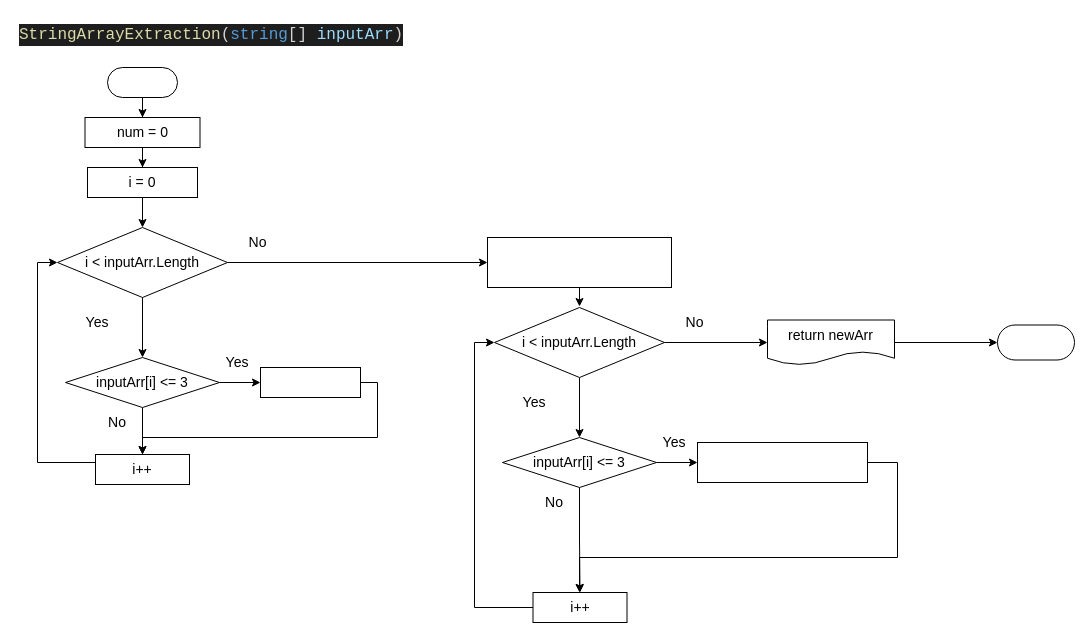
Image size: 1092x640. Some labels were removed from this diagram. The shapes that lost their labels are listed below. From the top down, each one's centre as x and y in pixels, then its label:
At point (142, 82): "start".
At point (579, 262): "newArr = new string[num] num = 0 i = 0".
At point (1035, 342): "finish".
At point (310, 382): "num++".
At point (782, 462): "newArr[num] = inputArr[i] num++".
